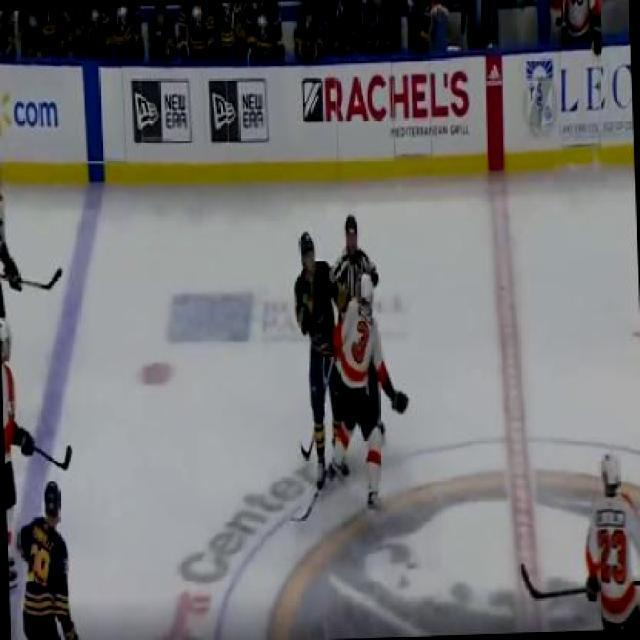fight: (291, 210, 404, 518)
non-fight: (10, 476, 81, 638), (576, 448, 638, 630)
